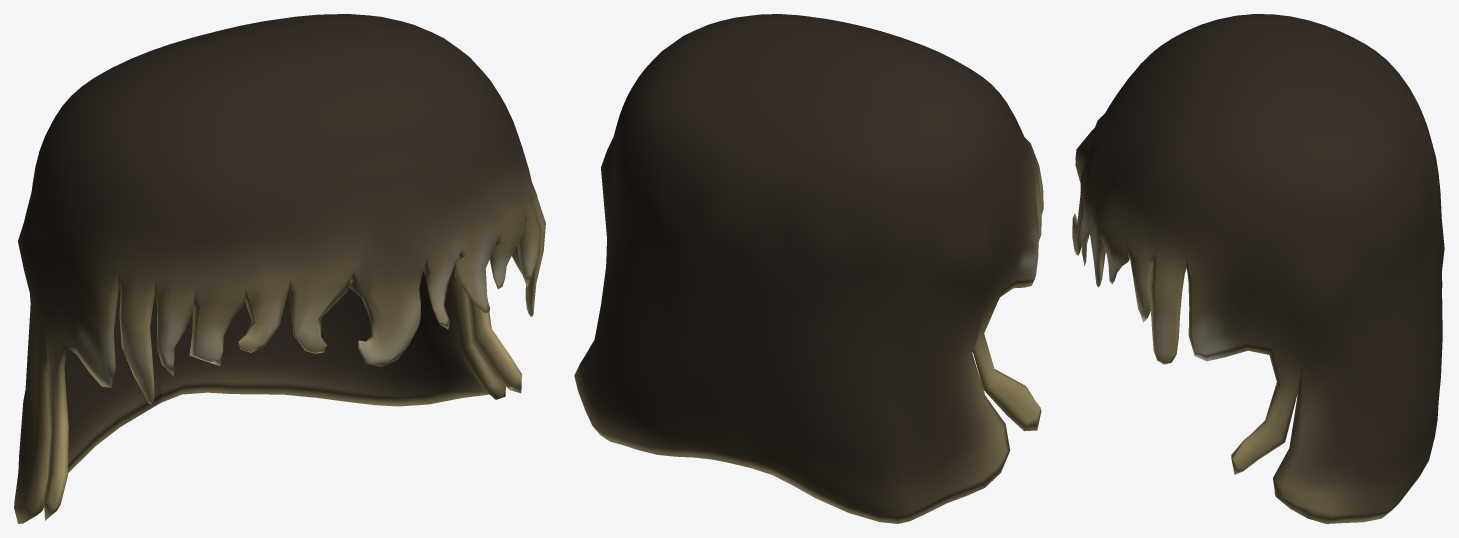
The model's file is OG_Frosted_Blonde.glb.
3 views of the same model, side by side, from view 1: azimuth 30°, elevation 25°; view 2: azimuth 150°, elevation 25°; view 3: azimuth 270°, elevation 25° (orthographic). The views are drawn at different scales.
Visible parts, largest first — view 1: OG_Frosted_Blonde; view 2: OG_Frosted_Blonde; view 3: OG_Frosted_Blonde.
Boxes of the visible parts, x1,y1,x2,y2 form: OG_Frosted_Blonde: [14, 14, 545, 523]; OG_Frosted_Blonde: [574, 14, 1043, 523]; OG_Frosted_Blonde: [1072, 14, 1444, 523].
Size of the model in its own units: 1.07 by 0.9721 by 0.8194.
1 material, 1 textured.
